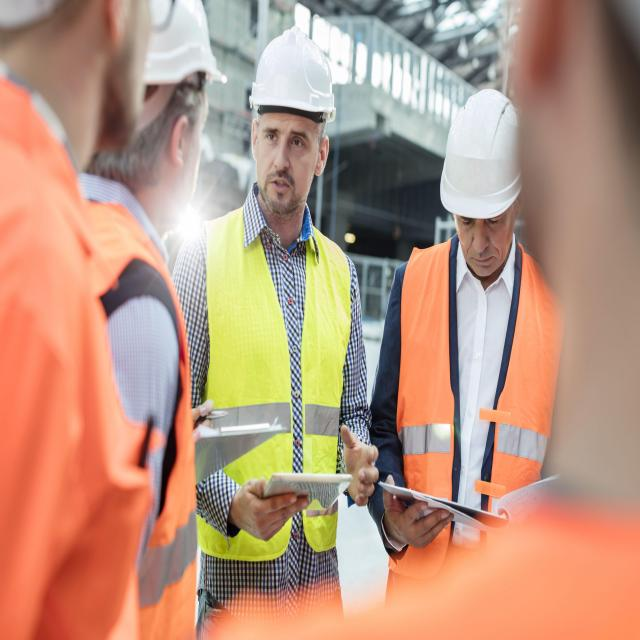Reflective-Jacket: (0, 46, 159, 640), (198, 212, 357, 560), (391, 237, 568, 548)
Safety-Helmet: (437, 83, 526, 218), (248, 24, 338, 119), (138, 0, 226, 90)
